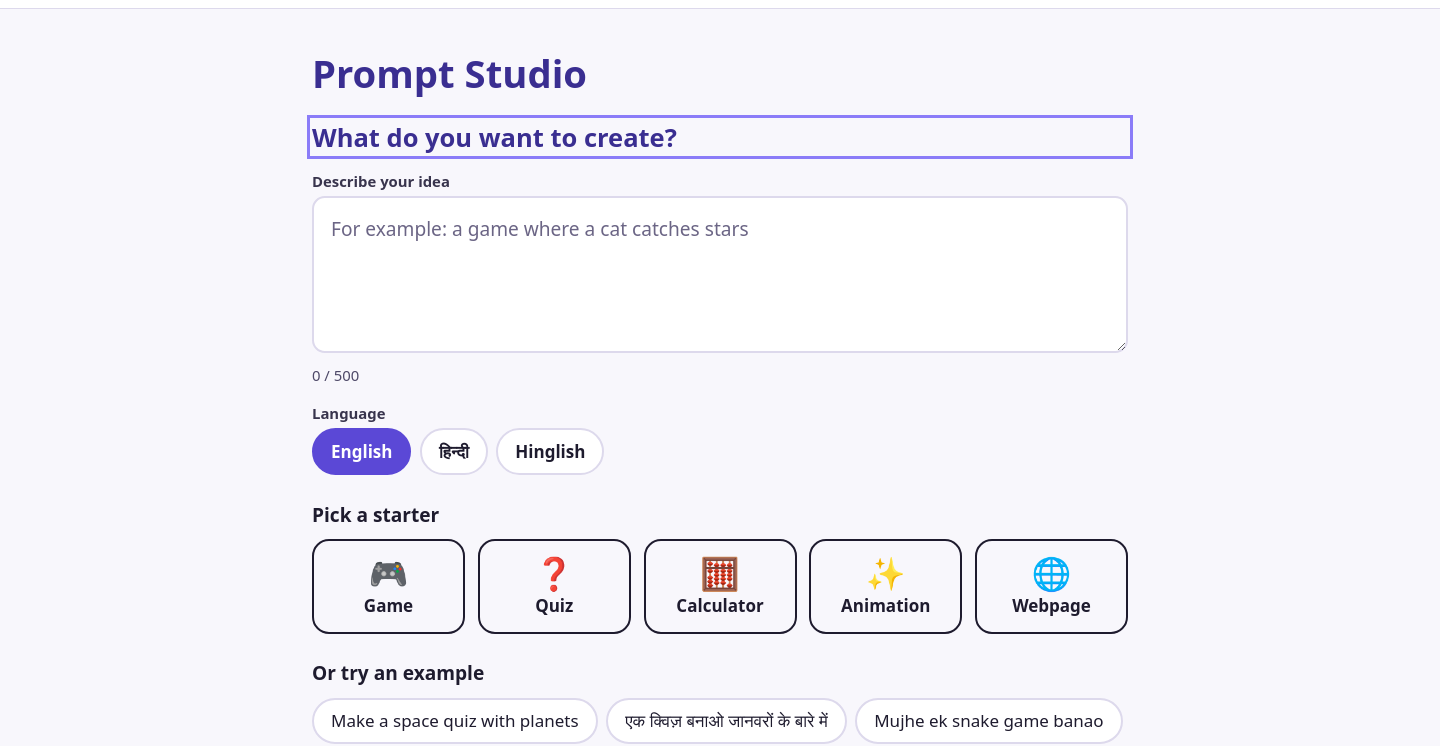
Prompt Studio › shows a friendly error and can retry
expect the heading "What do you want to create?" is shown: met, box 312,120 -> 677,154
Type "a quiz about space" into the text box labelled "Describe your idea" at (720, 275), box 312,196 -> 1128,353
(page scrolled)
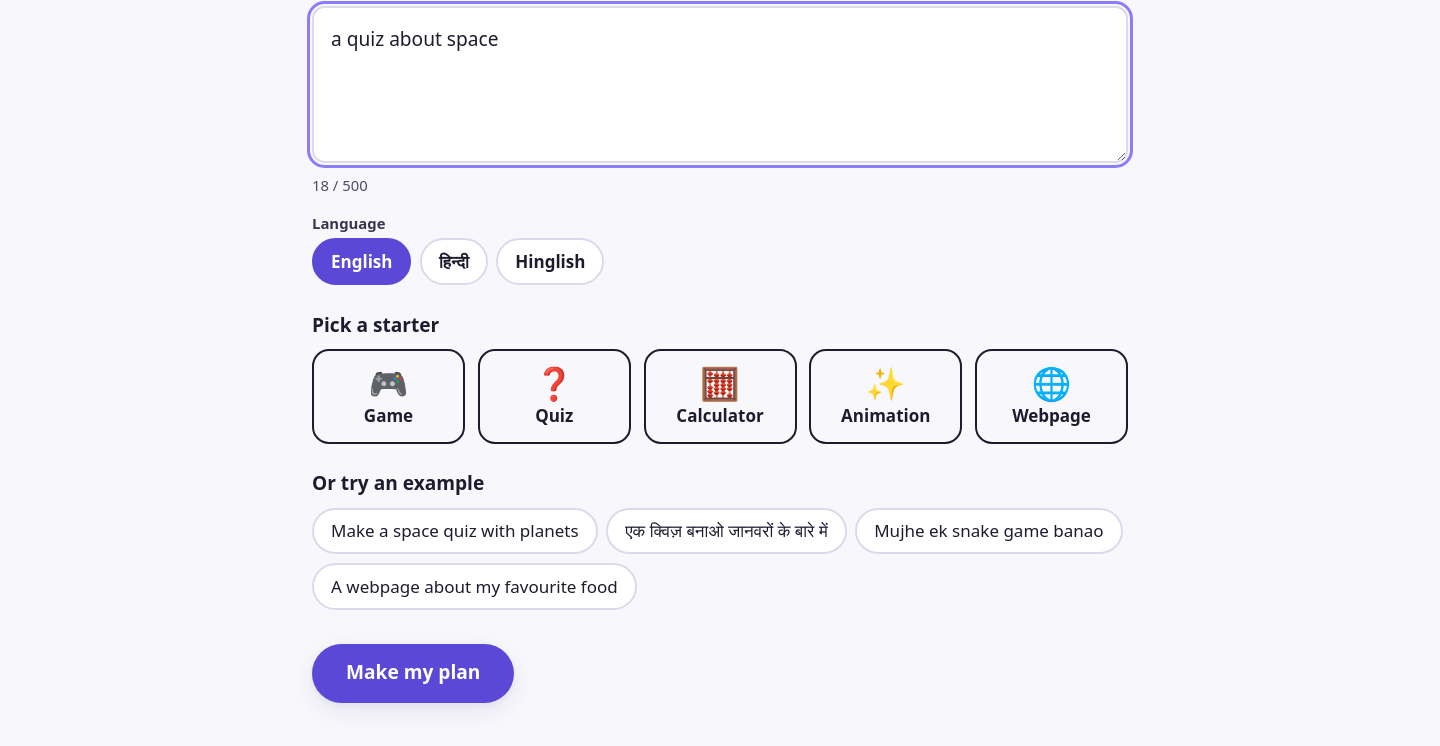
Click the button "Make my plan" at (413, 673), box 312,644 -> 514,703
(page scrolled)
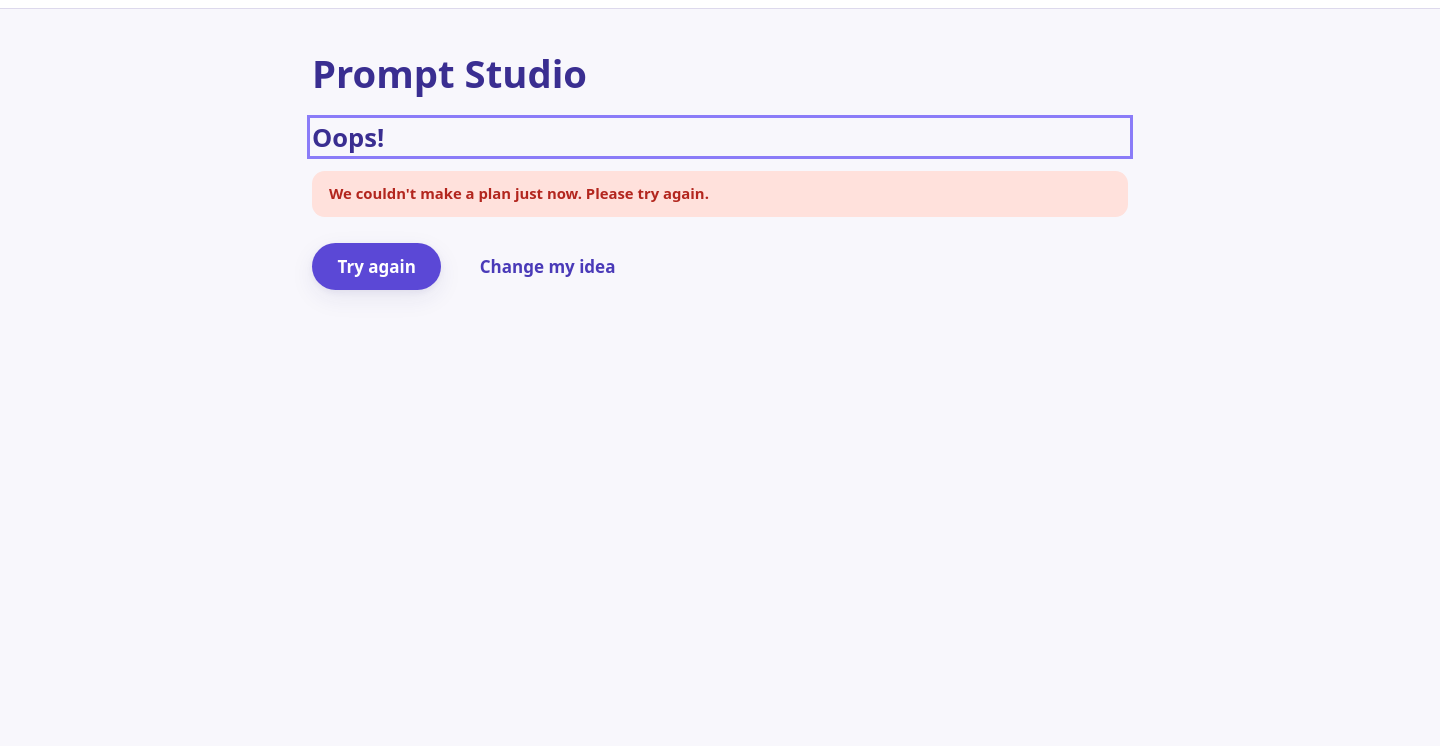
expect the message shows "couldn't make a plan": met, box 329,184 -> 709,204
Click the button "Try again" at (377, 266), box 312,243 -> 442,290
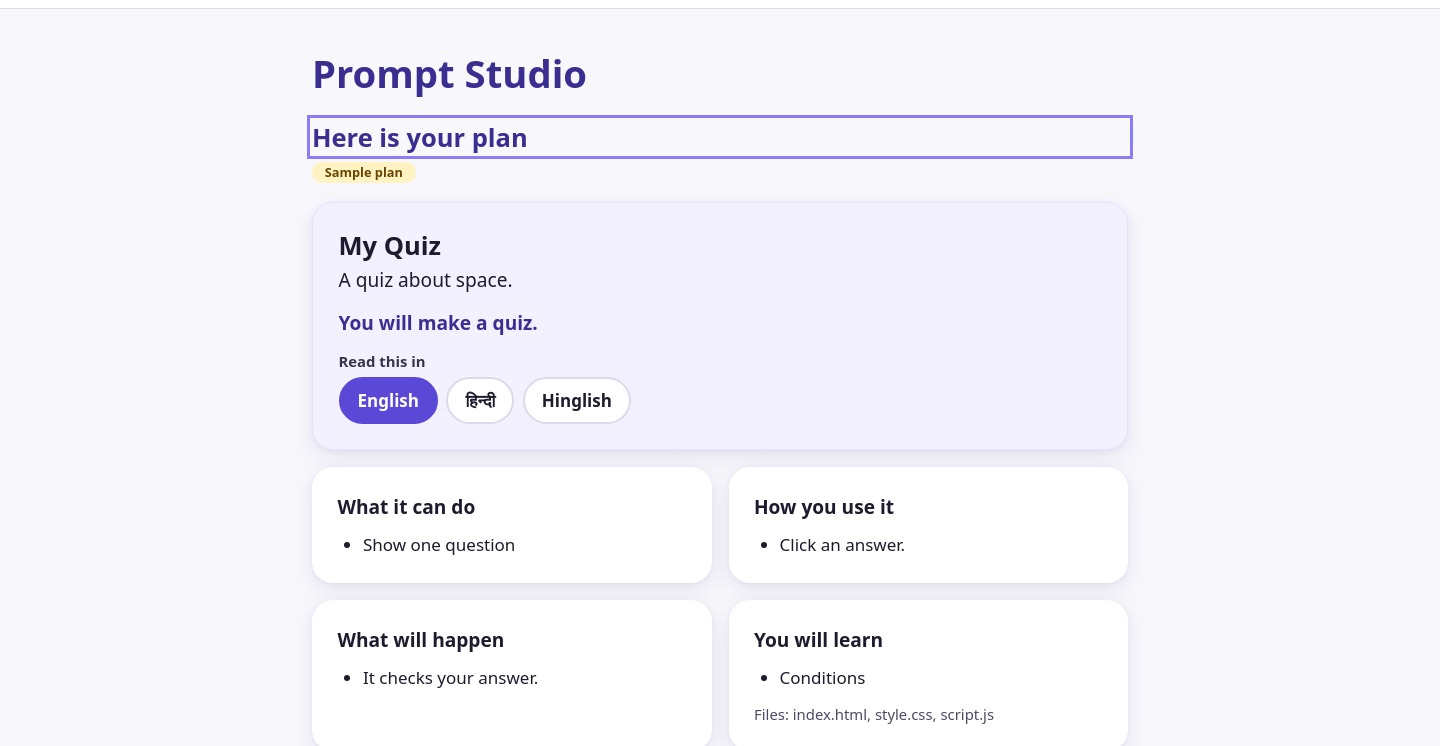
expect the heading "Here is your plan" is shown: met, box 312,120 -> 528,154
